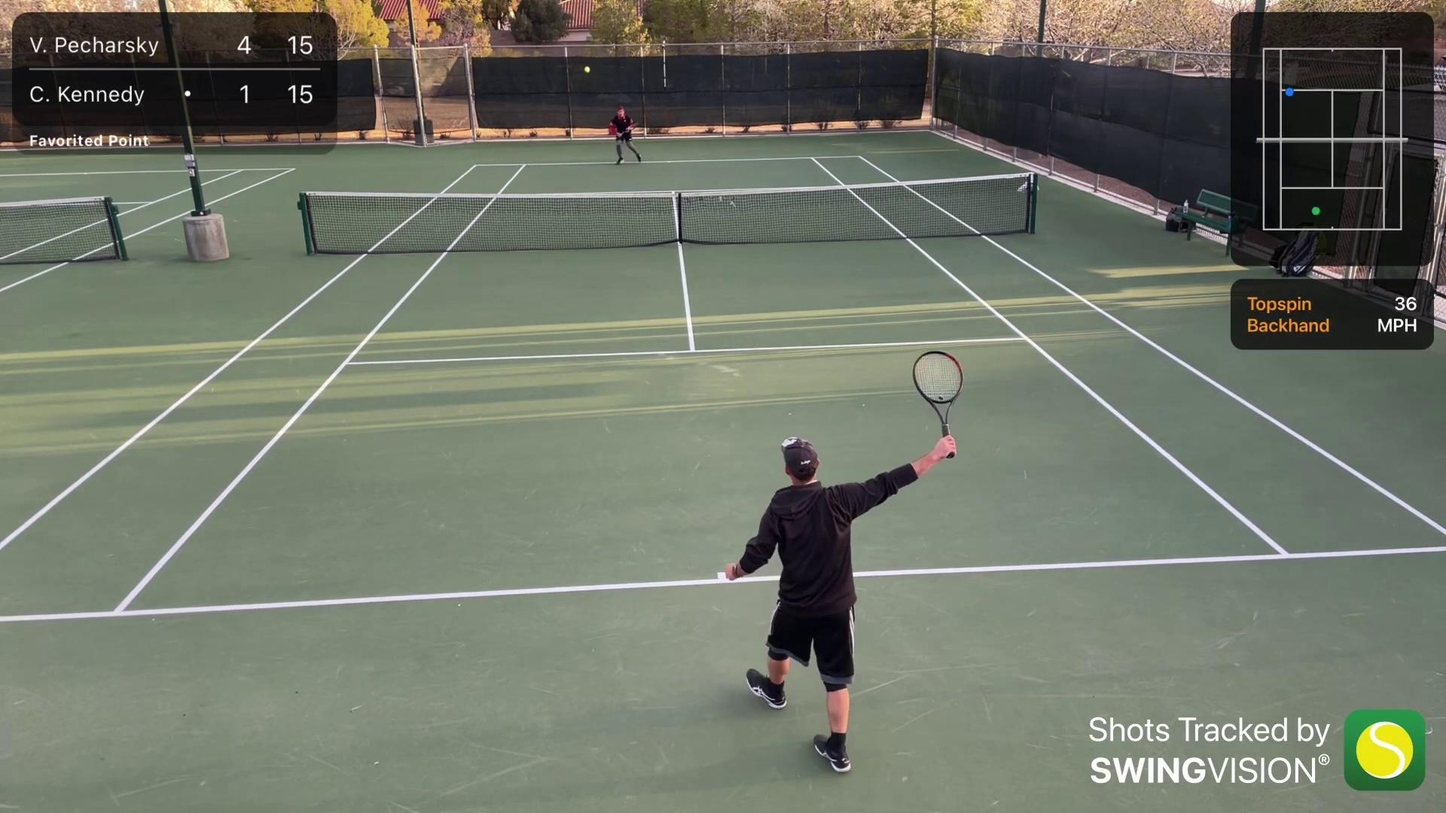ball: (585, 65, 590, 72)
